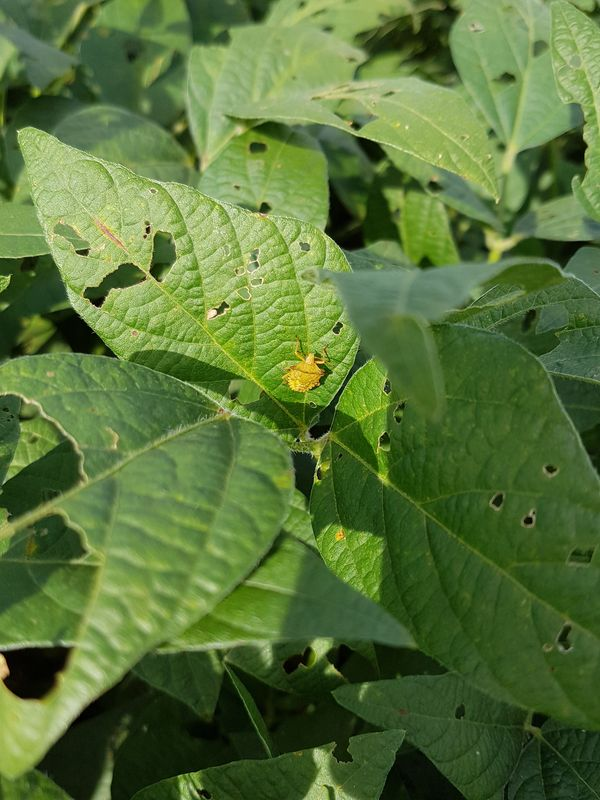Euschistus_heros_ninfa: (273, 333, 340, 403)
